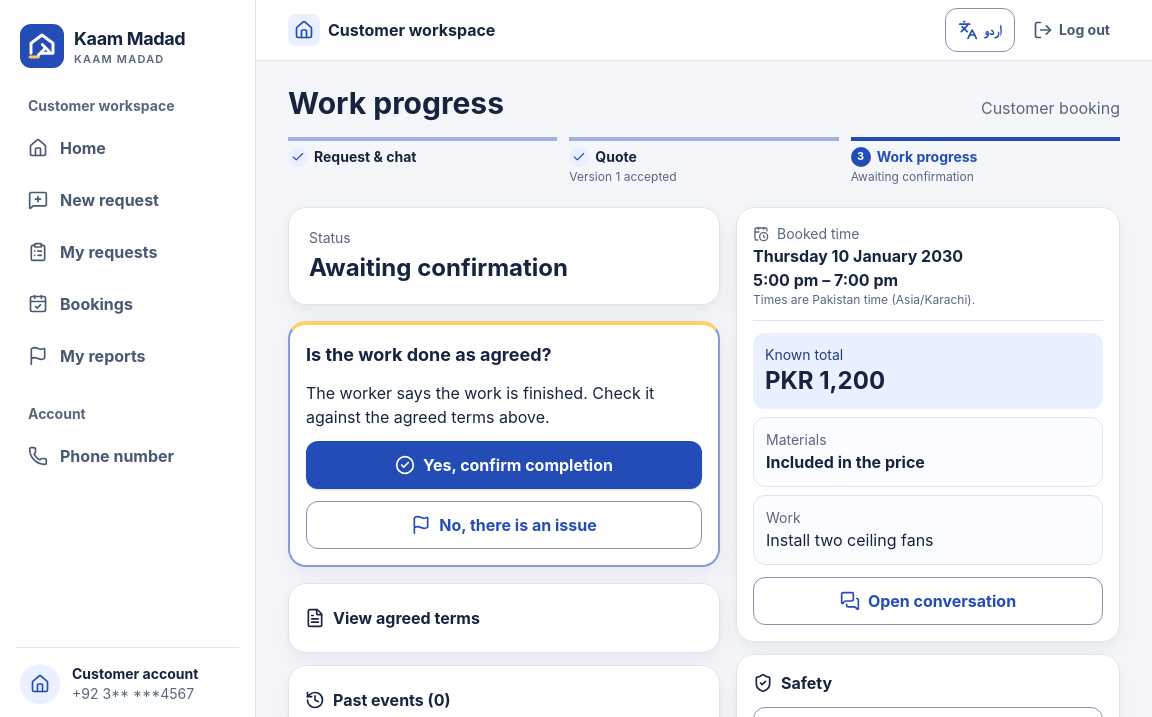
Scenario: completion › customer confirms, then leaves one review with an approved text
Click the button "Yes, confirm completion" at point(504, 465), box [306,441,702,489]
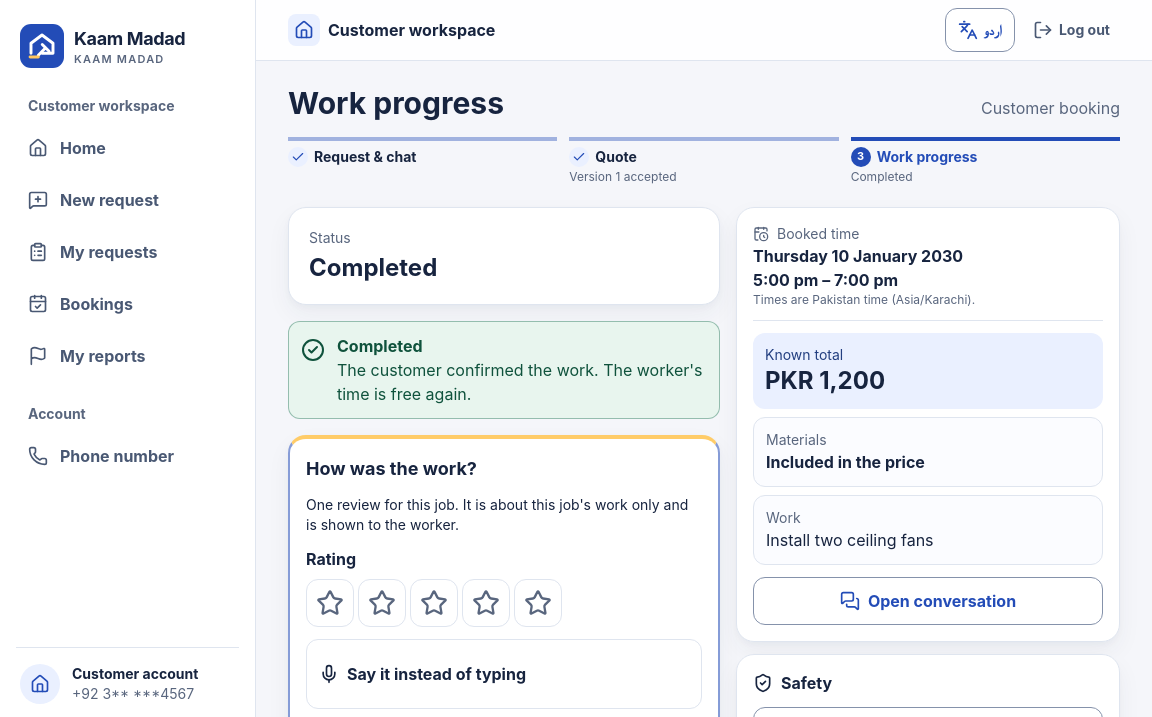
Result: the heading "How was the work?" is shown at [306,458,477,479]
Click the radio button named "4 out of 5 stars" at point(486, 603), box [462,579,510,627]
(page scrolled)
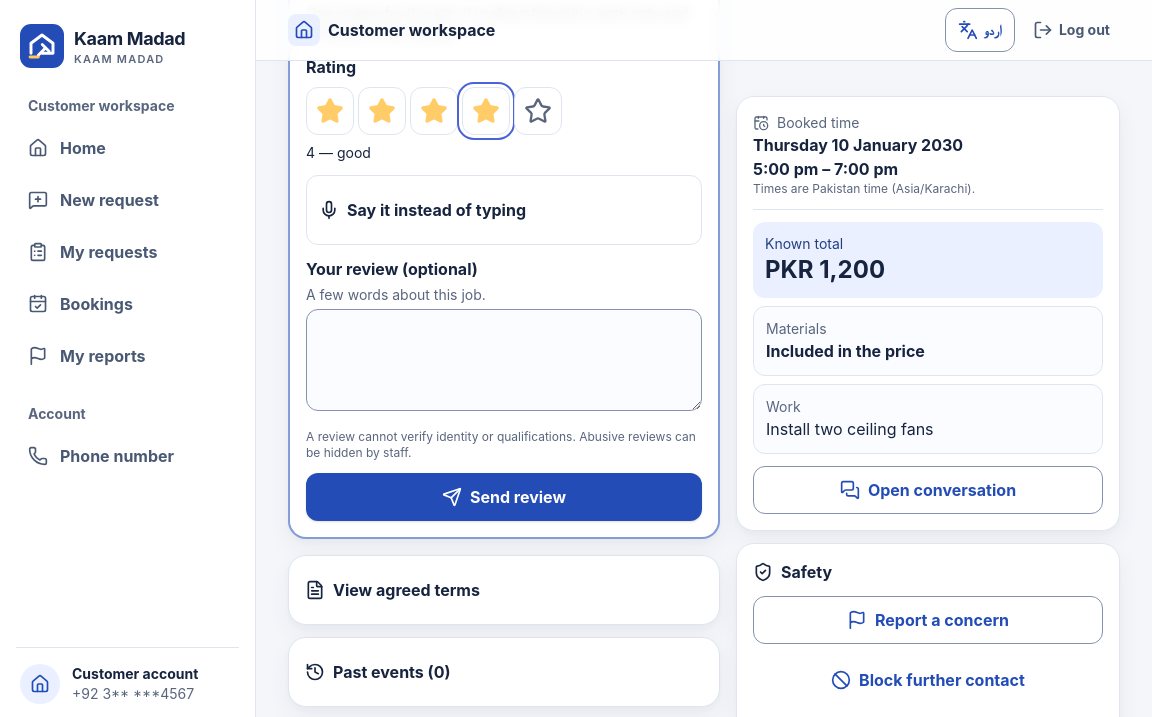
Type "Neat work, on time" into the text box labelled "Your review (optional)" at point(504, 360), box [306,309,702,411]
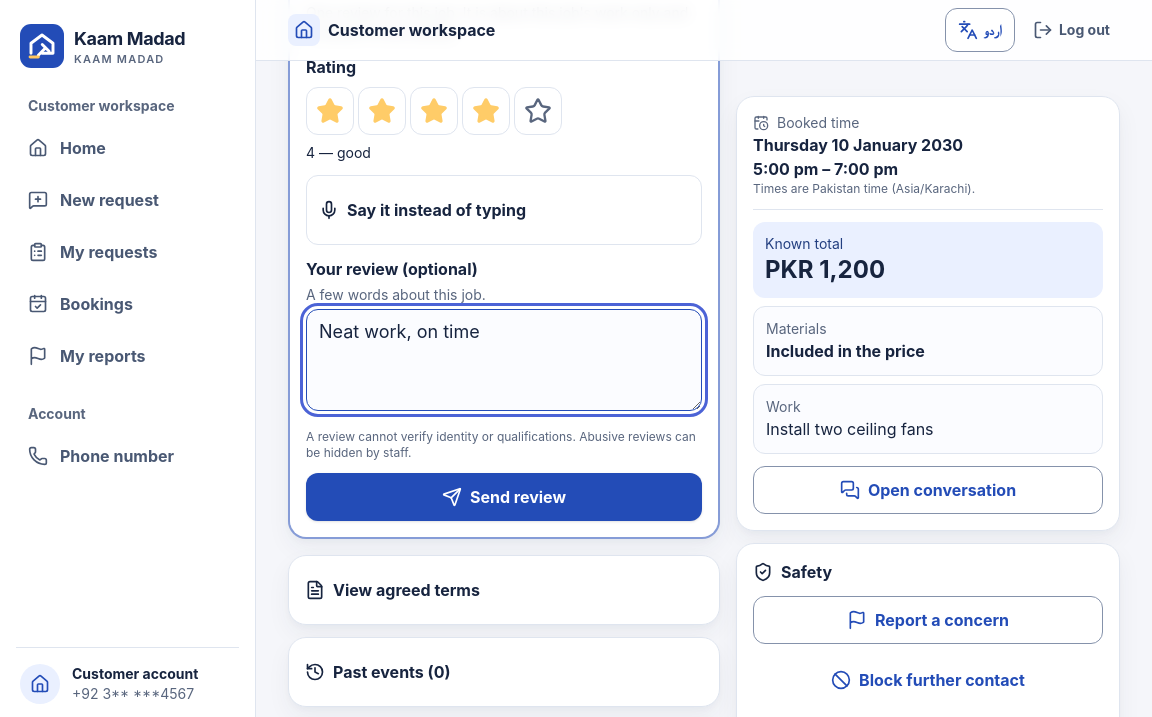
Click the button "Send review" at point(504, 497), box [306,473,702,521]
(page scrolled)
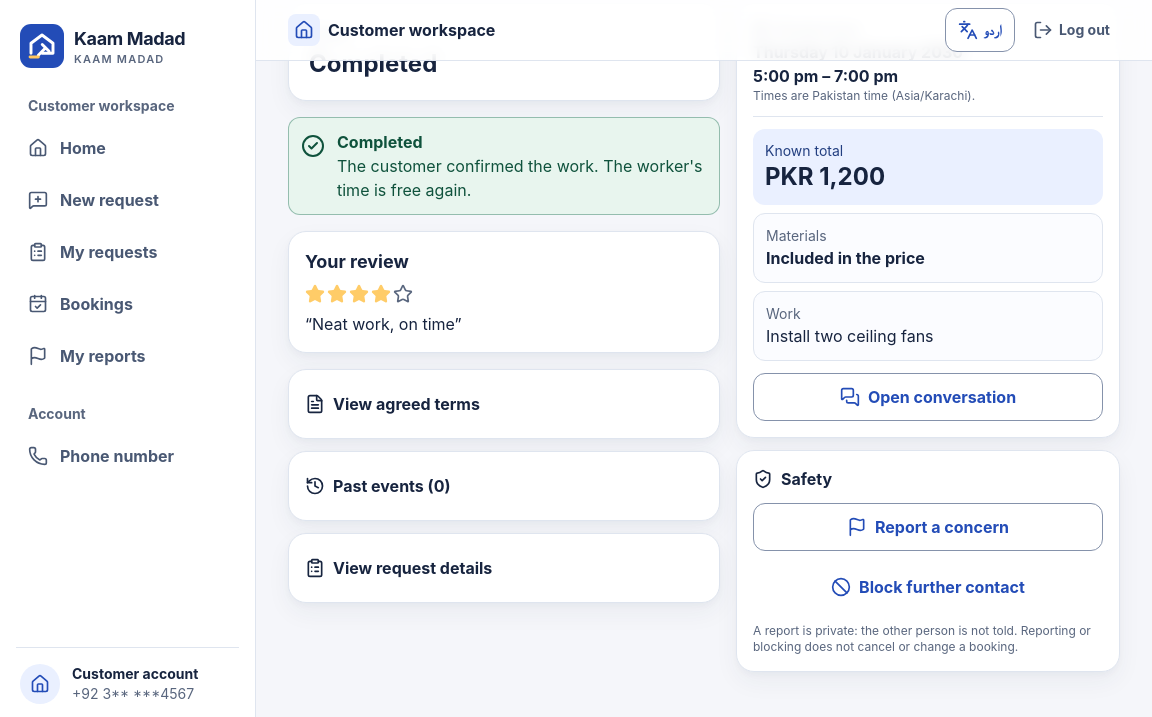
Result: the heading "Your review" is shown at [305,251,409,272]
Result: the text "“Neat work, on time”" is shown at [305,314,462,334]
